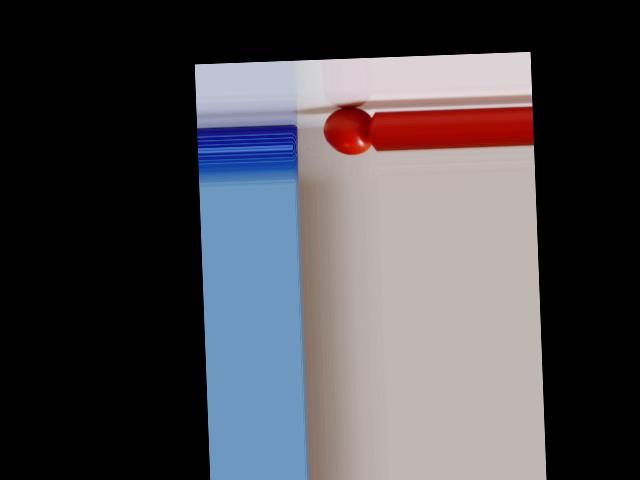tomato: (322, 106, 371, 155)
